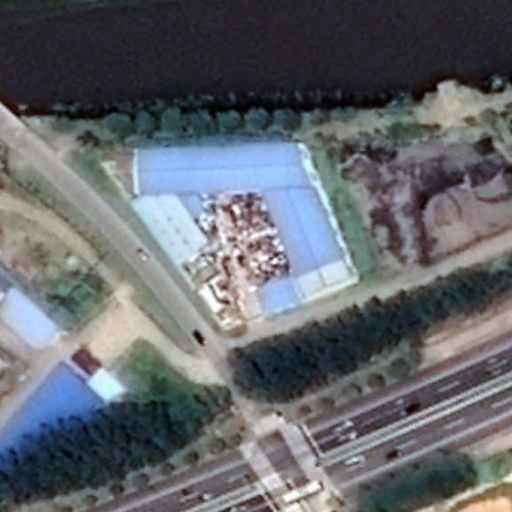msw: (204, 189, 289, 283)
